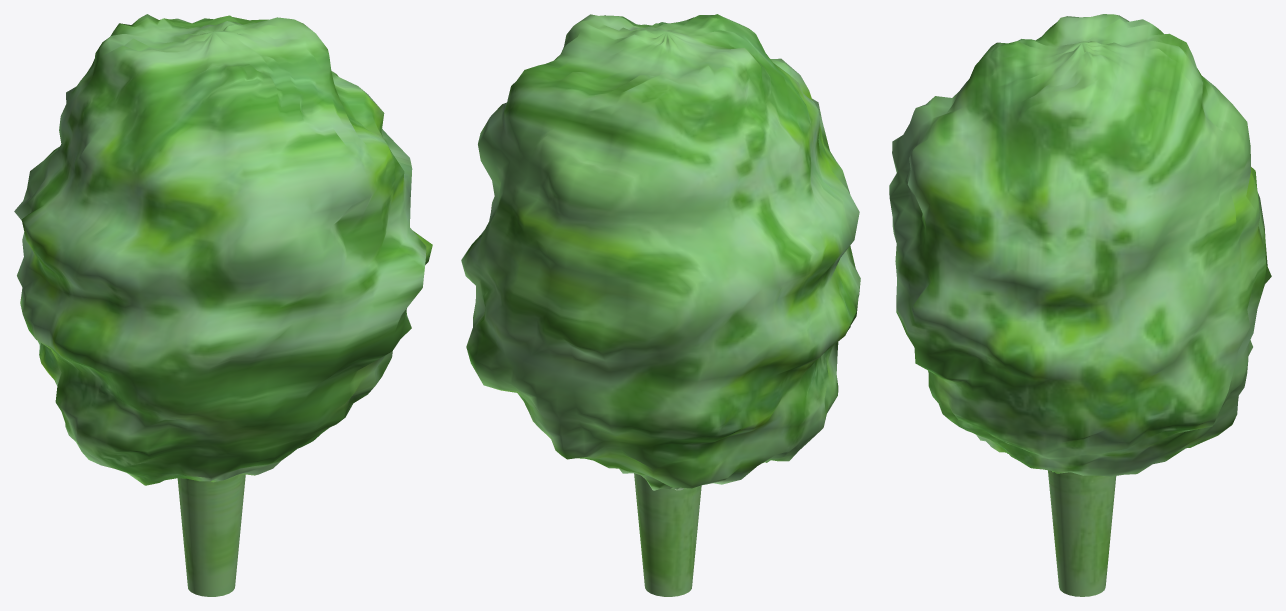
The model's file is Arbol2V.fbx.
3 renders of one model, left to right at view 1: azimuth 30°, elevation 25°; view 2: azimuth 150°, elevation 25°; view 3: azimuth 270°, elevation 25°, orthographic.
Visible parts, largest first — view 1: boom_014; view 2: boom_014; view 3: boom_014.
Part boxes in pixels (x1=…): boom_014: x1=14, y1=14, x2=432, y2=596; boom_014: x1=461, y1=14, x2=860, y2=596; boom_014: x1=889, y1=14, x2=1271, y2=596.
Size of the model in its own units: 35.1 by 52.22 by 33.19.
1 material, 1 textured.
